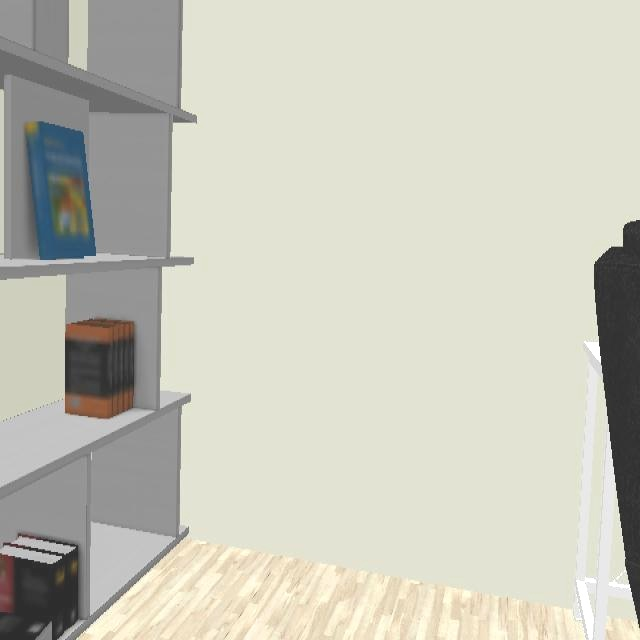book: (21, 121, 95, 263), (0, 533, 85, 640), (65, 320, 136, 420)
chair: (594, 220, 640, 625)
shelf: (0, 0, 198, 640)
table: (574, 343, 632, 640)
